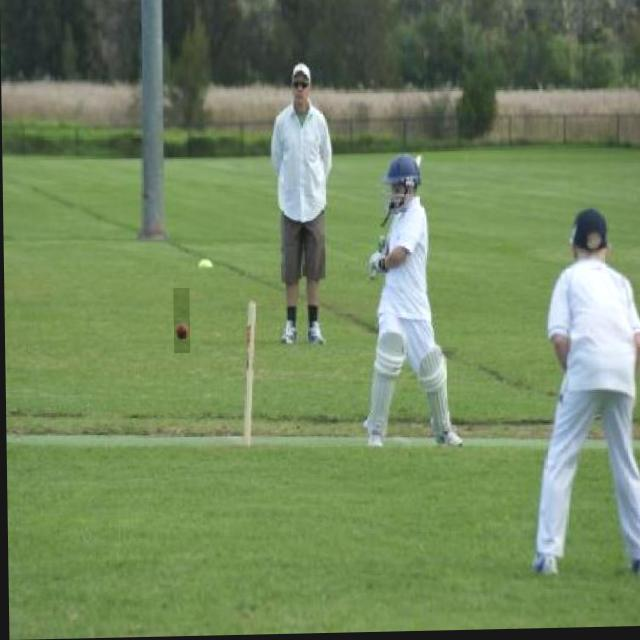-: (172, 289, 190, 354)
